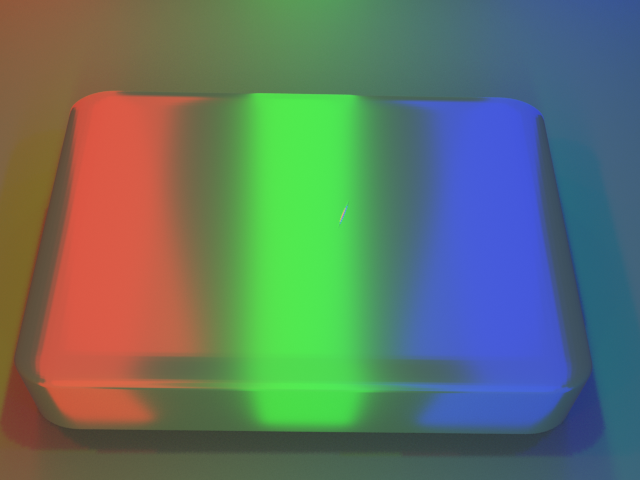scratch: (281, 175, 411, 247)
